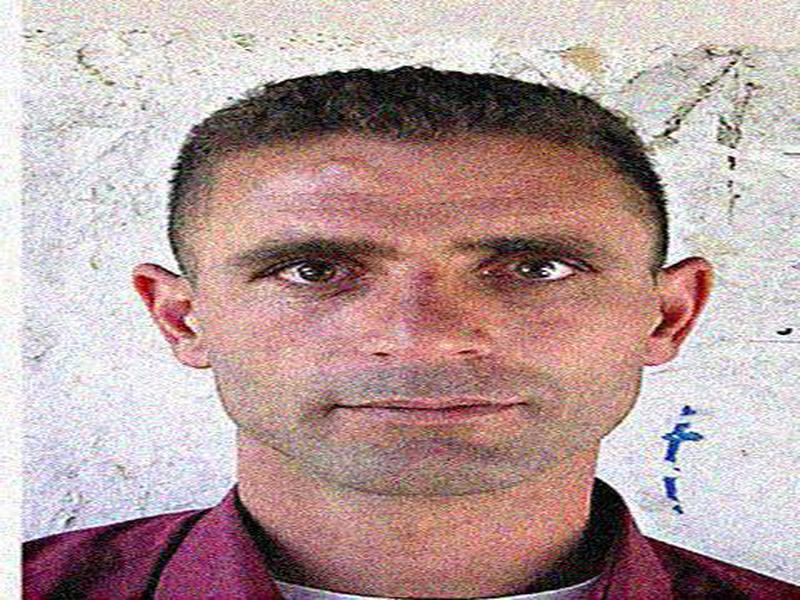without_mask: (187, 148, 648, 501)
